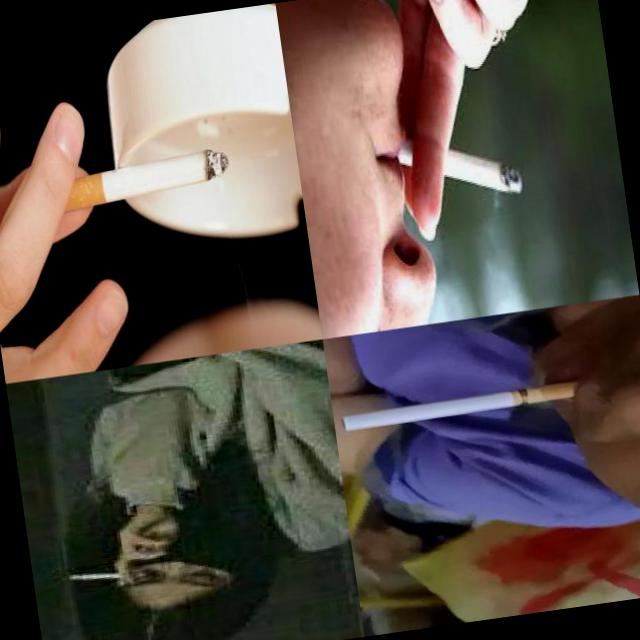cigarette: (29, 126, 240, 222), (382, 116, 525, 212), (344, 379, 583, 431), (66, 564, 149, 588)
